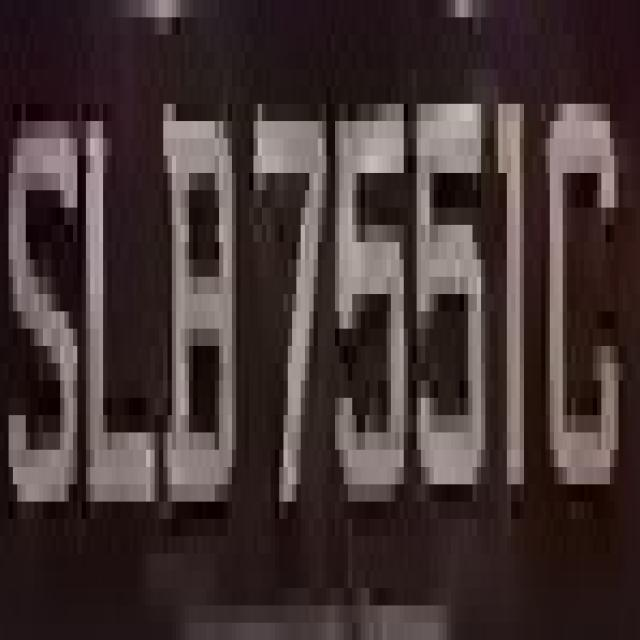1: (490, 52, 528, 605)
5: (318, 35, 404, 536), (400, 52, 481, 571)
7: (236, 86, 326, 571)
B: (163, 52, 236, 588)
C: (536, 0, 631, 605)
L: (69, 121, 176, 605)
S: (4, 69, 82, 554)
